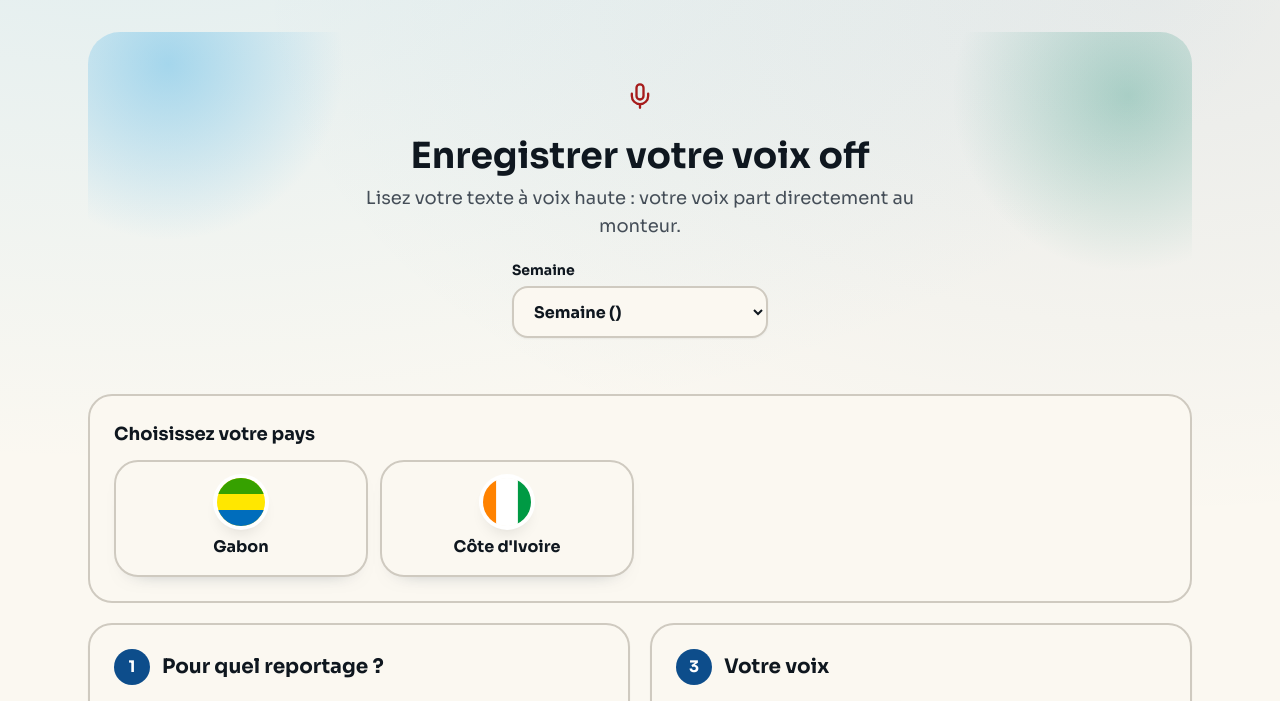
StudioVoixJournaliste › sans pays : on choisit d’abord son pays, et le bouton rouge attend
expect the heading "Choisissez votre pays" is shown: met, box [114,423,315,445]
Click the button "Côte d'Ivoire": coordinates (507, 518) [380,460,634,577]
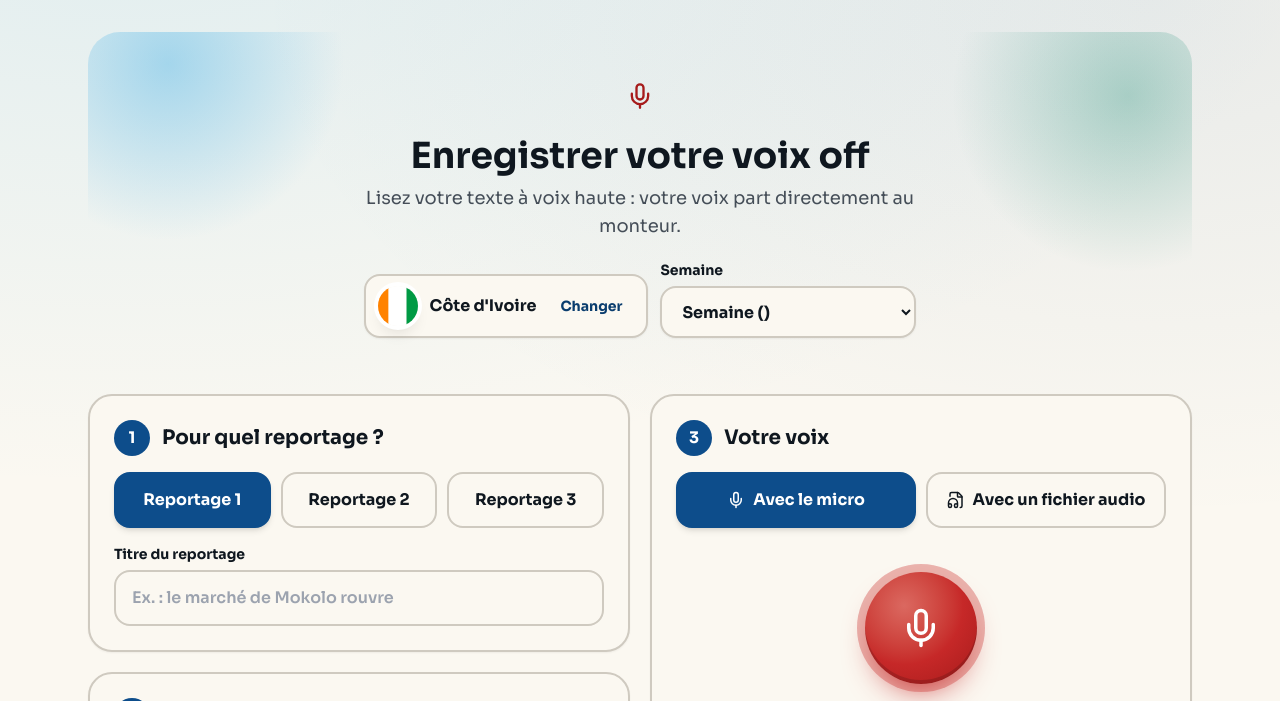
expect the button named "Commencer l’enregistrement" is enabled: met, box [865,572,977,684]
